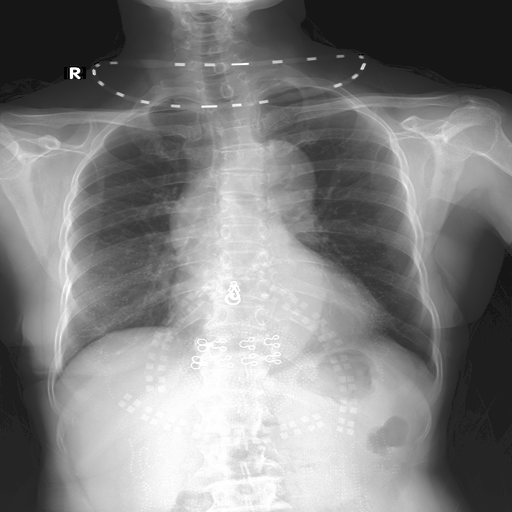Calcification: (153, 95, 203, 104), (265, 88, 292, 97)
Consolidation: (167, 139, 314, 275), (243, 141, 315, 199)
Nodule/Mass: (165, 290, 392, 350)
